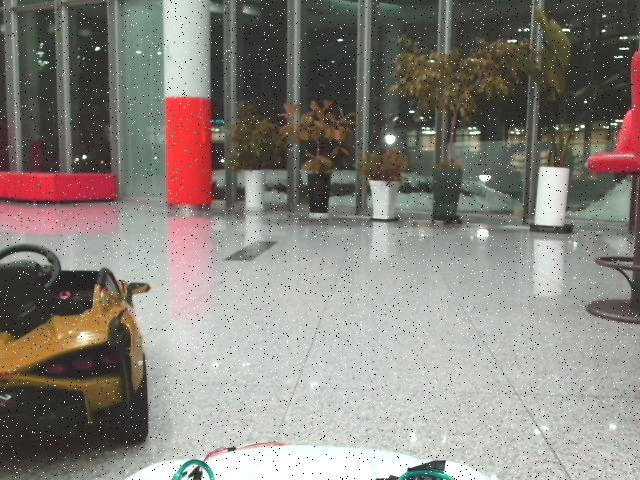car: (1, 244, 150, 470)
